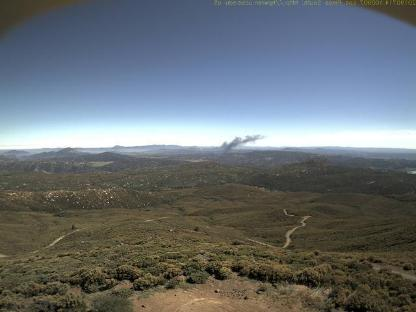smoke: (217, 129, 267, 155)
